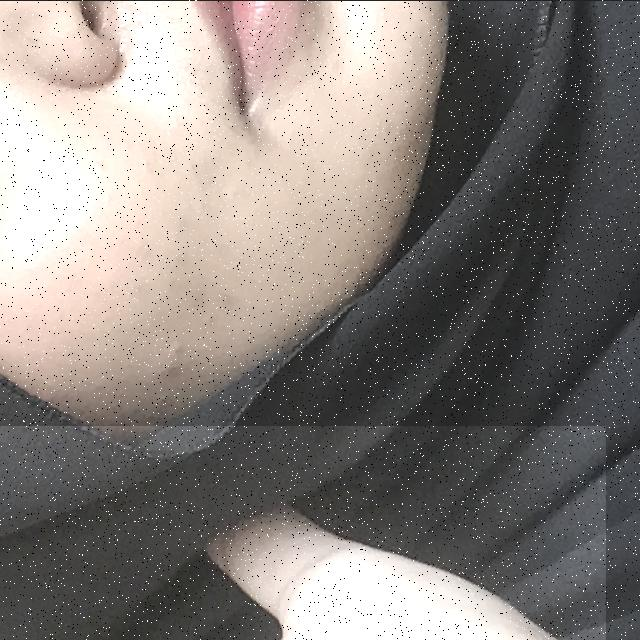mendengar: (0, 425, 606, 640)
